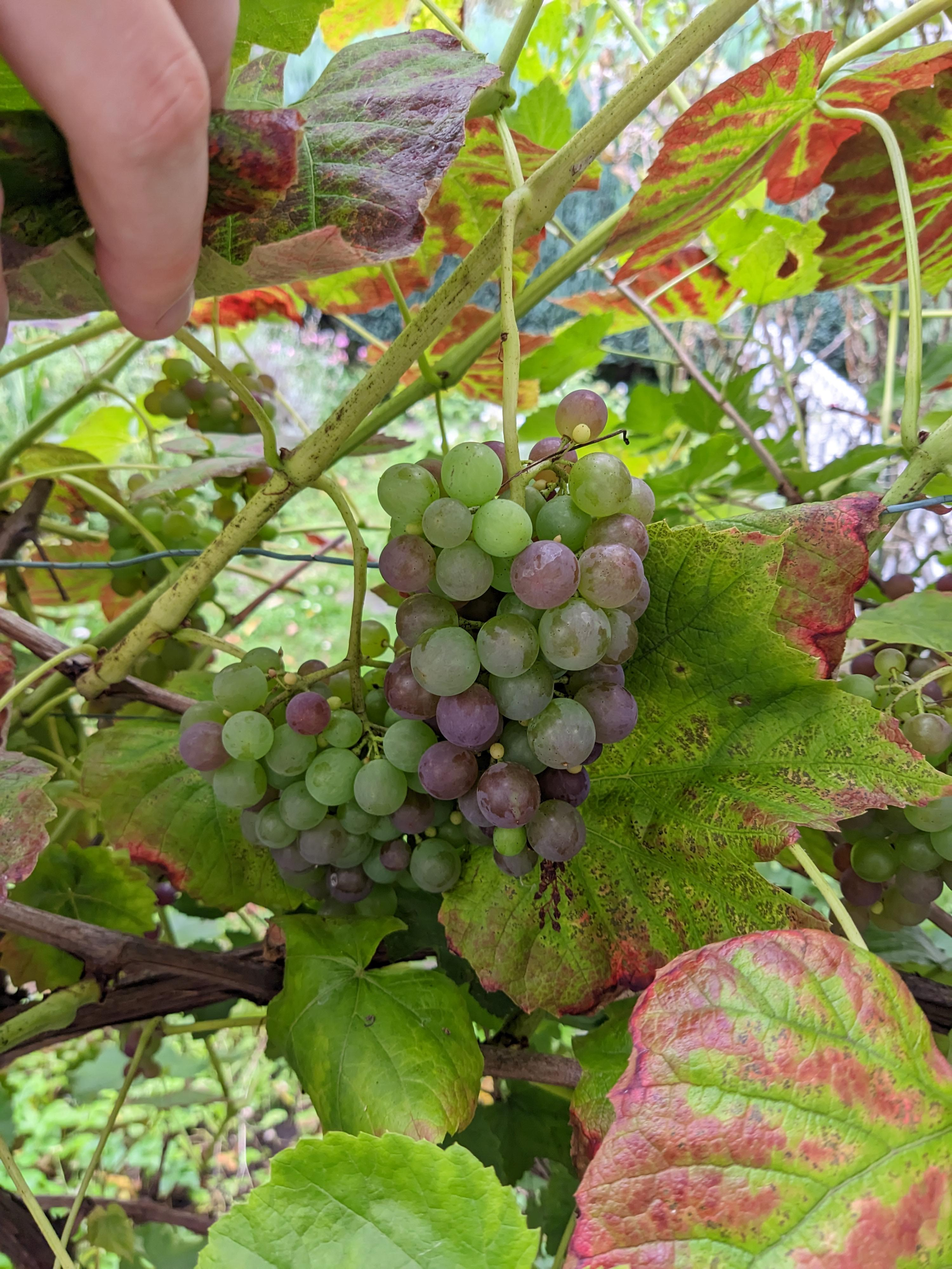Grape Unripe: (367, 387, 658, 878), (173, 621, 463, 924), (822, 646, 952, 933), (137, 356, 282, 561), (97, 472, 223, 678)
